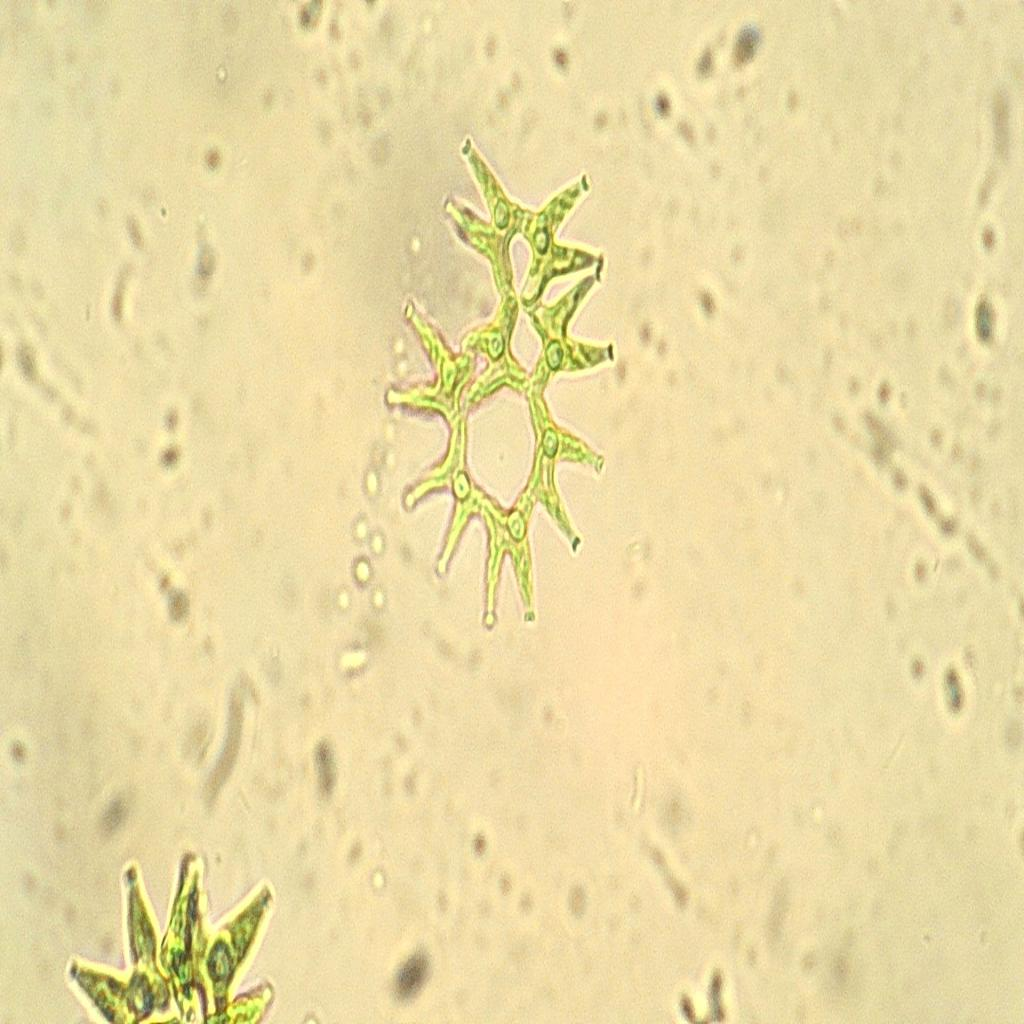Pediastrum_1TH: (376, 121, 633, 659)
